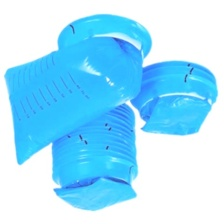plastic_bag: (0, 35, 149, 169), (138, 94, 215, 146), (50, 175, 148, 213)
